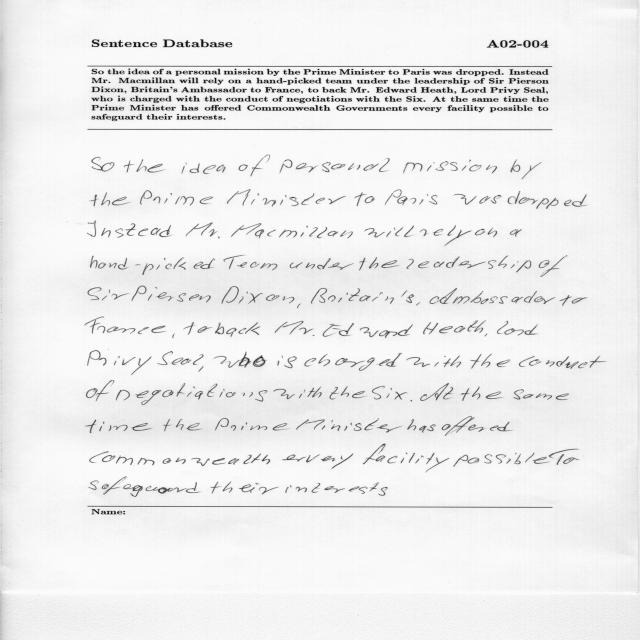word: (116, 383, 267, 405), (363, 444, 449, 472), (91, 256, 215, 275), (89, 477, 200, 497), (407, 256, 531, 273), (227, 190, 346, 207), (430, 288, 555, 304), (311, 288, 420, 306), (231, 224, 353, 239), (305, 353, 403, 371), (280, 158, 390, 173), (88, 351, 152, 376), (296, 418, 402, 433), (285, 482, 388, 496), (507, 191, 587, 209), (87, 221, 171, 238), (85, 317, 166, 334), (89, 452, 186, 466), (323, 323, 413, 338), (442, 417, 513, 436), (132, 286, 211, 303), (222, 286, 295, 304), (403, 160, 497, 173), (454, 452, 535, 467), (140, 190, 213, 206), (282, 453, 354, 469), (519, 356, 607, 369), (420, 226, 472, 247), (191, 454, 270, 466), (423, 320, 486, 335), (216, 418, 288, 431), (211, 482, 278, 495), (86, 420, 152, 433), (214, 352, 267, 368), (224, 255, 277, 270), (385, 190, 437, 205), (290, 258, 354, 270), (533, 449, 579, 465), (239, 155, 271, 177), (215, 322, 260, 337), (406, 356, 461, 368), (158, 351, 204, 365), (539, 255, 568, 277), (497, 321, 538, 336), (470, 354, 511, 369), (461, 386, 502, 401), (514, 390, 569, 401), (275, 321, 315, 336), (420, 383, 453, 401), (511, 160, 542, 179), (87, 380, 115, 401), (273, 387, 322, 399), (124, 159, 164, 173), (91, 193, 130, 207), (186, 223, 220, 239), (365, 226, 414, 237), (88, 288, 129, 301), (182, 162, 226, 174), (359, 257, 399, 270), (455, 194, 501, 205), (329, 386, 365, 400), (372, 386, 407, 400), (164, 419, 202, 431), (407, 419, 436, 433), (183, 322, 212, 335), (92, 157, 114, 171), (560, 295, 588, 306), (355, 192, 375, 206), (277, 356, 297, 368), (475, 228, 497, 237), (510, 229, 522, 237), (199, 366, 204, 372), (297, 304, 301, 309), (172, 334, 175, 339), (485, 334, 487, 337), (411, 400, 413, 401)
